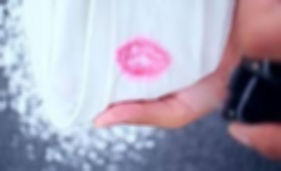lipstick: (118, 35, 175, 81)
